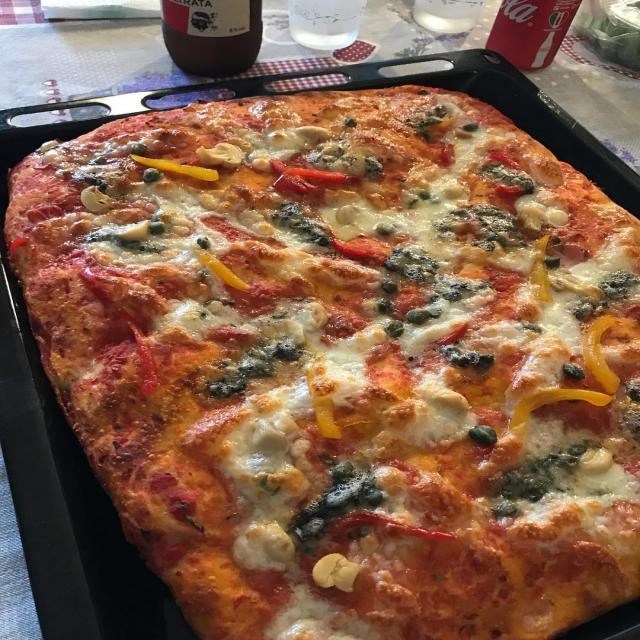mushrooms: (313, 549, 367, 595), (540, 265, 592, 298), (196, 141, 242, 171), (300, 300, 333, 332), (76, 187, 114, 212), (110, 219, 155, 240), (519, 204, 548, 233)
pizza: (5, 85, 640, 640)
